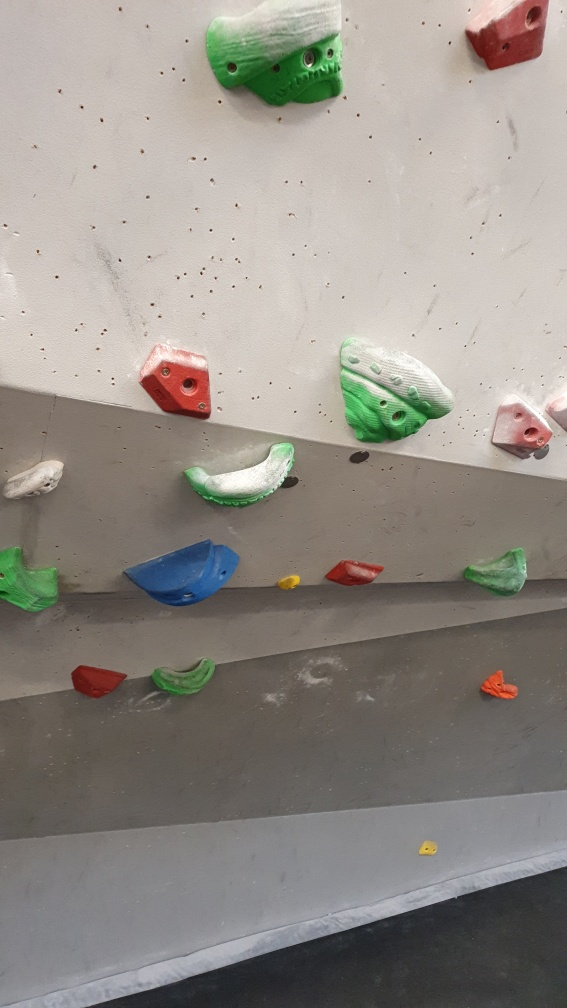Crimp: (138, 337, 219, 422), (461, 1, 553, 69), (490, 392, 553, 463), (323, 554, 388, 593)
Hand Start: (344, 446, 376, 467), (279, 471, 306, 495), (534, 440, 551, 465)
Jug: (205, 1, 353, 110), (336, 329, 462, 446), (181, 440, 304, 515), (1, 544, 69, 617), (147, 651, 219, 698), (1, 456, 68, 504), (465, 552, 531, 599)
Pinch: (122, 540, 243, 610)
